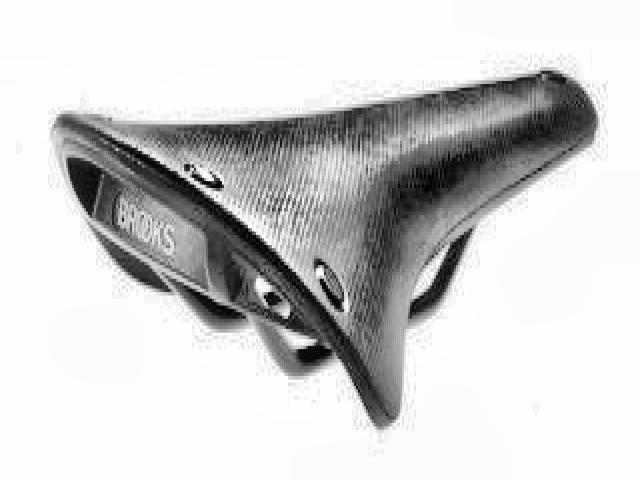saddle: (47, 65, 600, 430)
